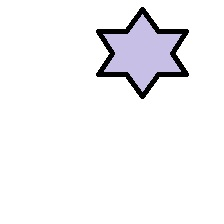star: (95, 7, 189, 100)
